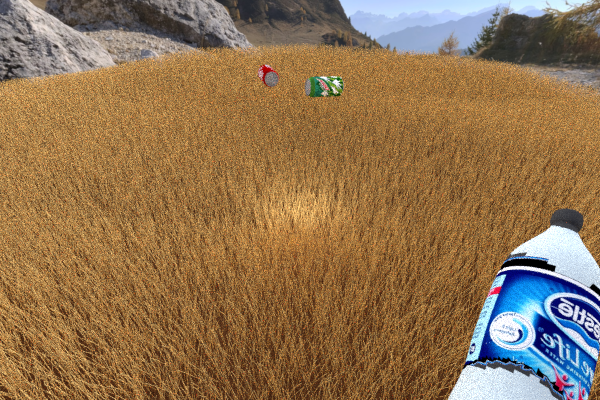bottle: (424, 208, 600, 400)
can: (304, 76, 343, 97), (257, 64, 278, 87)
